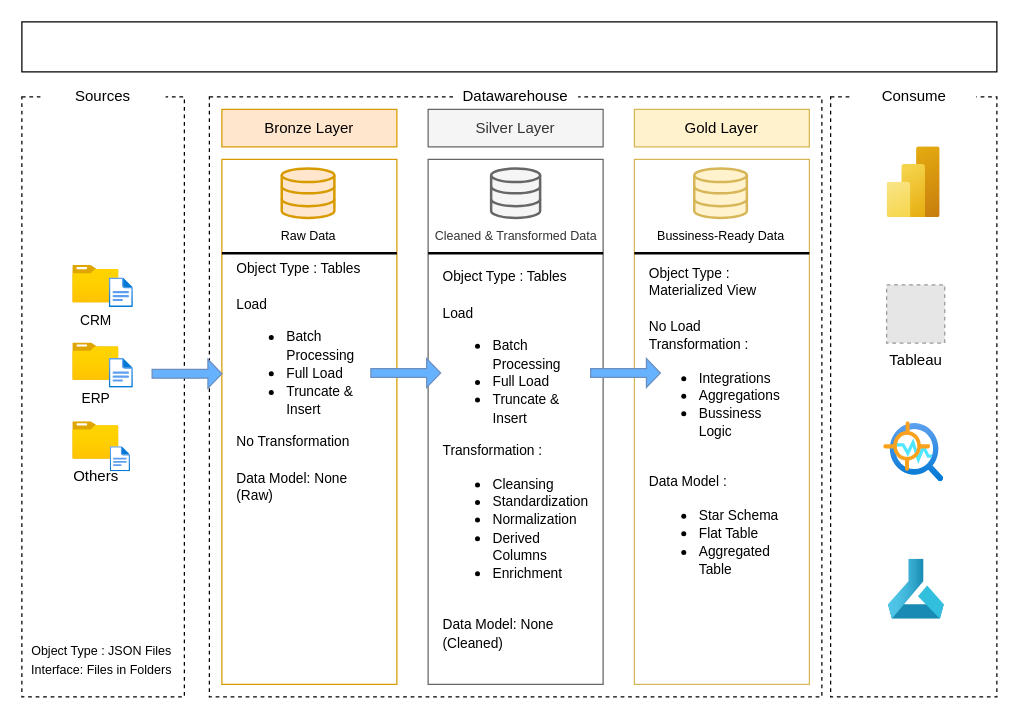
This 1019x719 diagram has some shape labels left out. Grey dashed boxes stand in for pictures. Here are the shapes that lost their labels. From the top down, the centre of each, then its label:
At point 509,46: "Data Architecture".
At point 913,181: "Power BI".
At point 913,451: "SQL Ad-Hoc".
At point 916,589: "Machine Learning".
